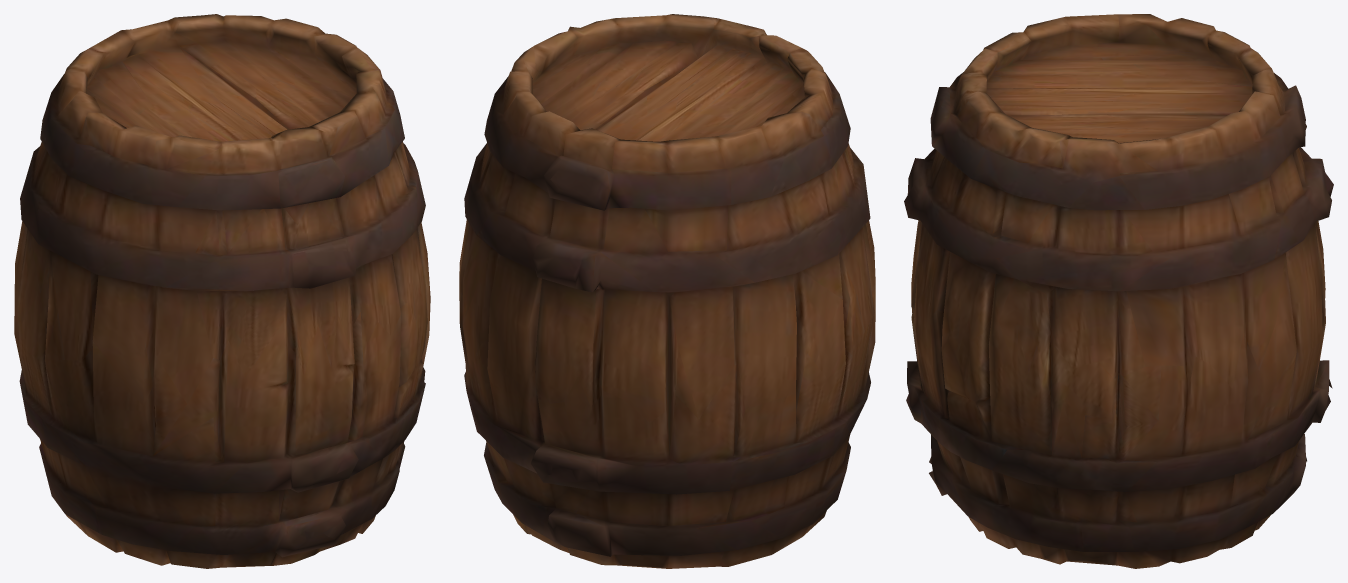
The model's file is barrel.glb.
3 renders of one model, left to right at view 1: azimuth 30°, elevation 25°; view 2: azimuth 150°, elevation 25°; view 3: azimuth 270°, elevation 25°, orthographic.
Parts seen in each view (by area): view 1: tripo_node_9ed5bf55-aa9e-49c3-9925-674296c19b4e; view 2: tripo_node_9ed5bf55-aa9e-49c3-9925-674296c19b4e; view 3: tripo_node_9ed5bf55-aa9e-49c3-9925-674296c19b4e.
Part boxes in pixels (box(x1,y1,x2,y2)): tripo_node_9ed5bf55-aa9e-49c3-9925-674296c19b4e: box(14, 14, 430, 568); tripo_node_9ed5bf55-aa9e-49c3-9925-674296c19b4e: box(459, 14, 875, 568); tripo_node_9ed5bf55-aa9e-49c3-9925-674296c19b4e: box(904, 14, 1333, 568).
Size of the model in its own units: 0.872 by 0.9827 by 0.9004.
1 material, 1 textured.
